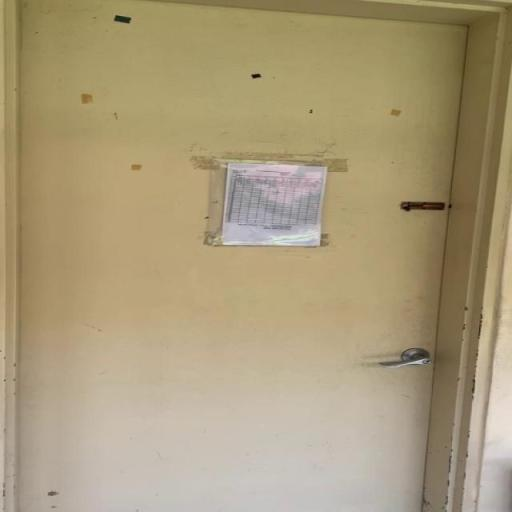door: (6, 0, 484, 511)
